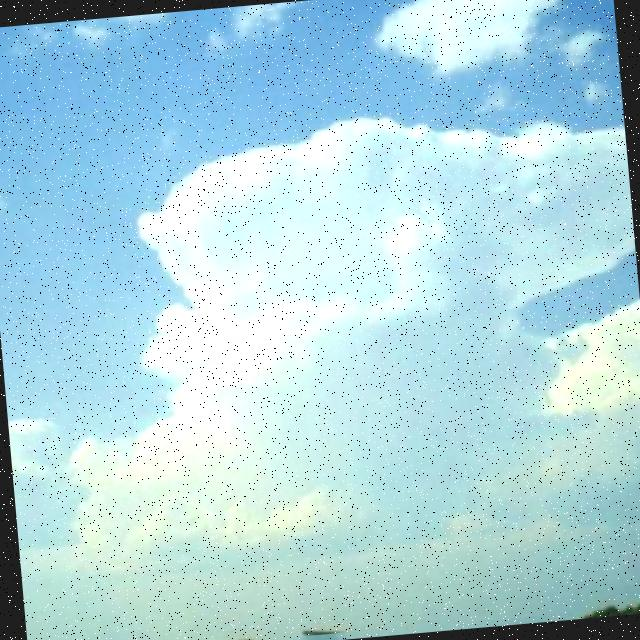Cb: (47, 84, 640, 597)
